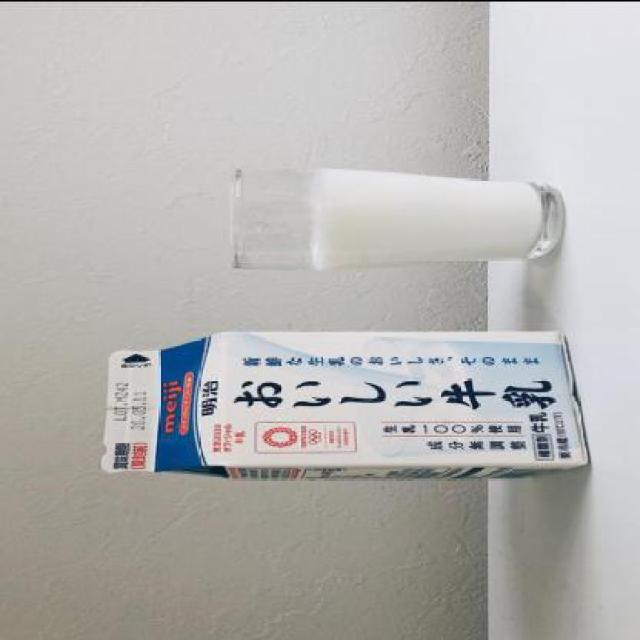non_white_jug: (89, 322, 600, 484)
